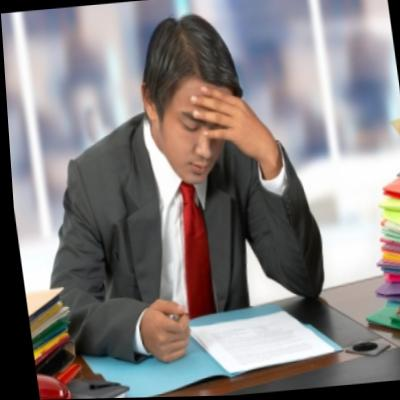sad: (163, 87, 234, 183)
